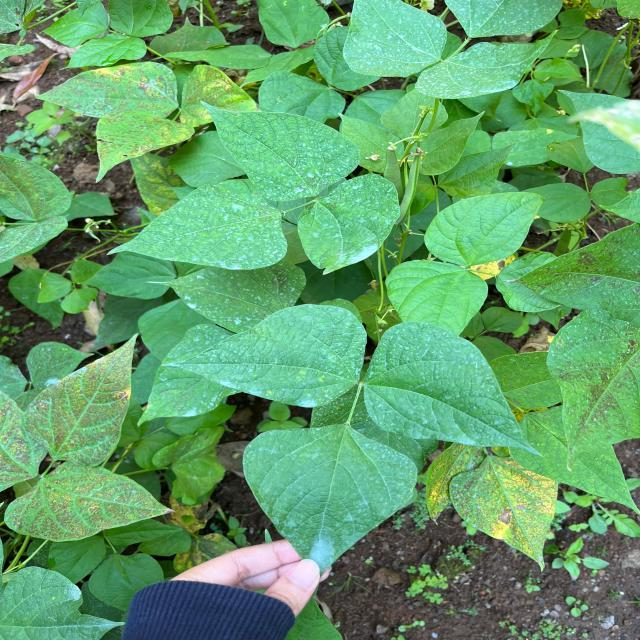embun tepung: (271, 436, 390, 575), (314, 215, 415, 288)
